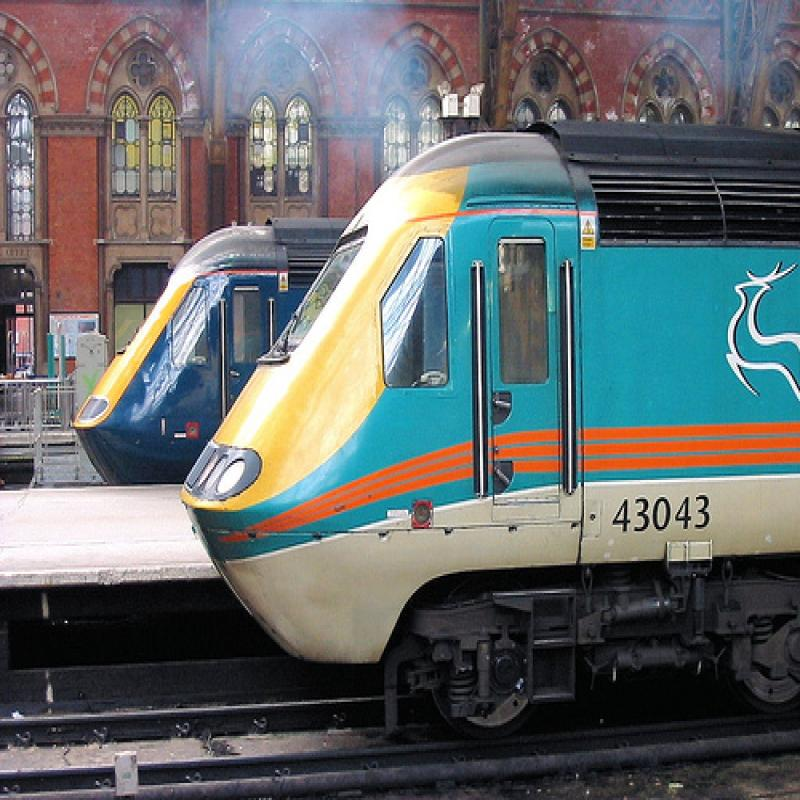train: (181, 121, 800, 744), (69, 217, 352, 483)
